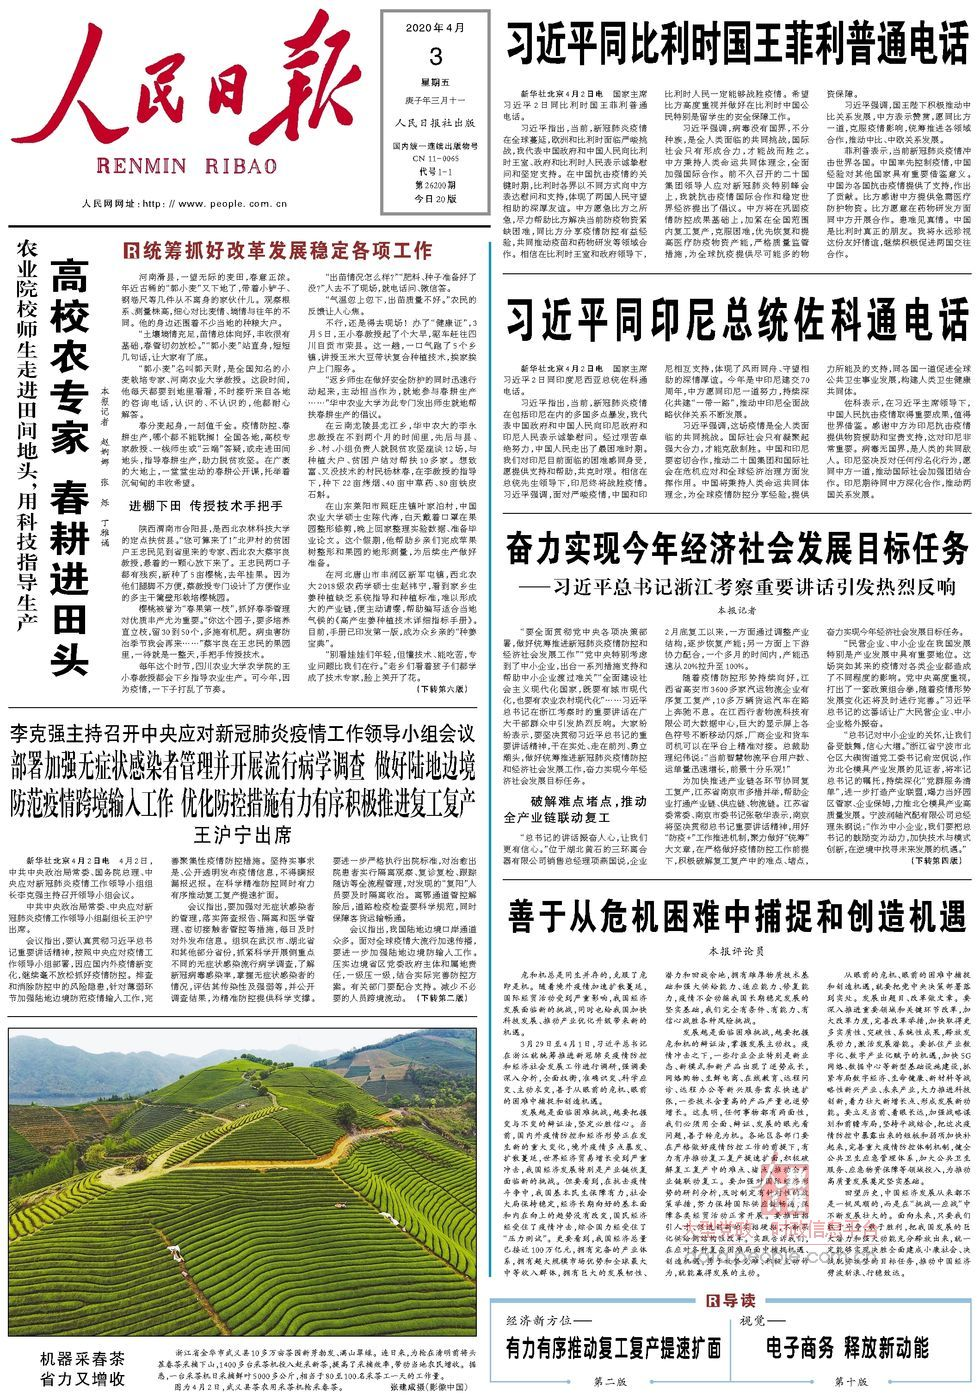pic: (5, 1022, 481, 1341)
